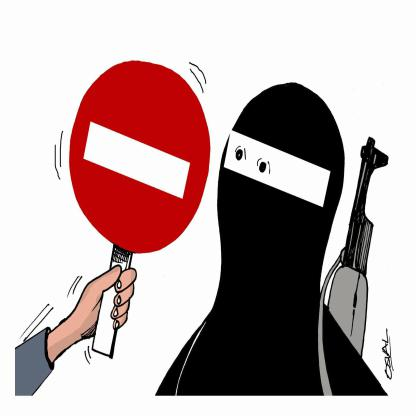rifle: (323, 130, 399, 359)
